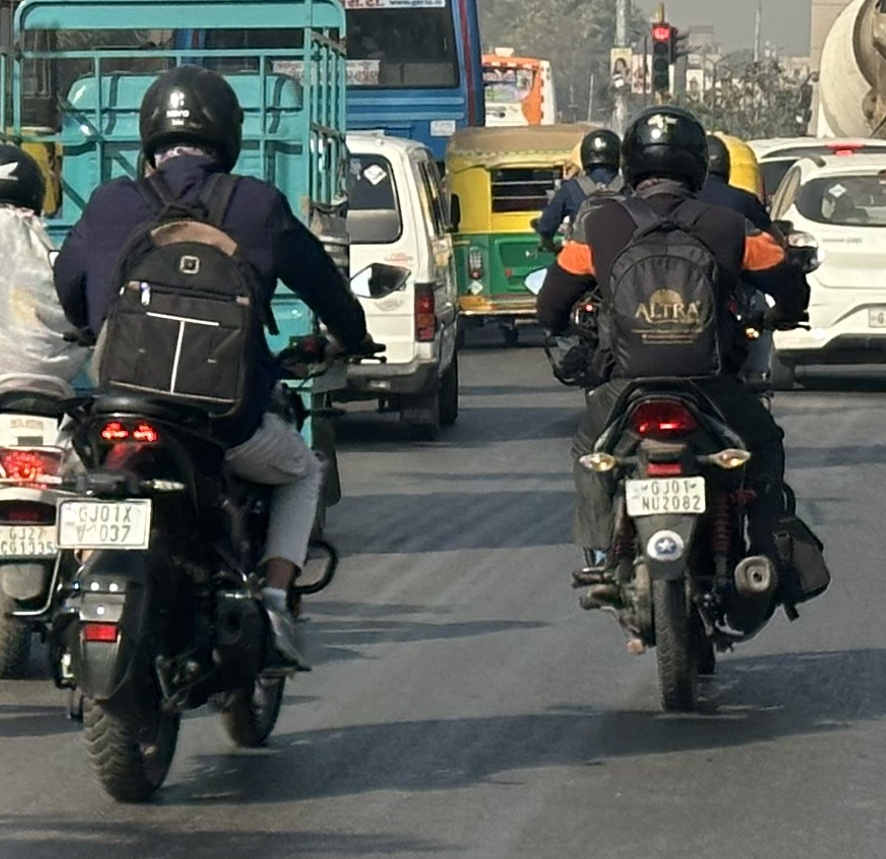BikeWithRider: (46, 58, 392, 820), (534, 103, 830, 719), (0, 134, 88, 684), (533, 118, 627, 276)
Helmet: (133, 60, 248, 177), (620, 104, 712, 198), (0, 136, 47, 224), (577, 122, 623, 177)
